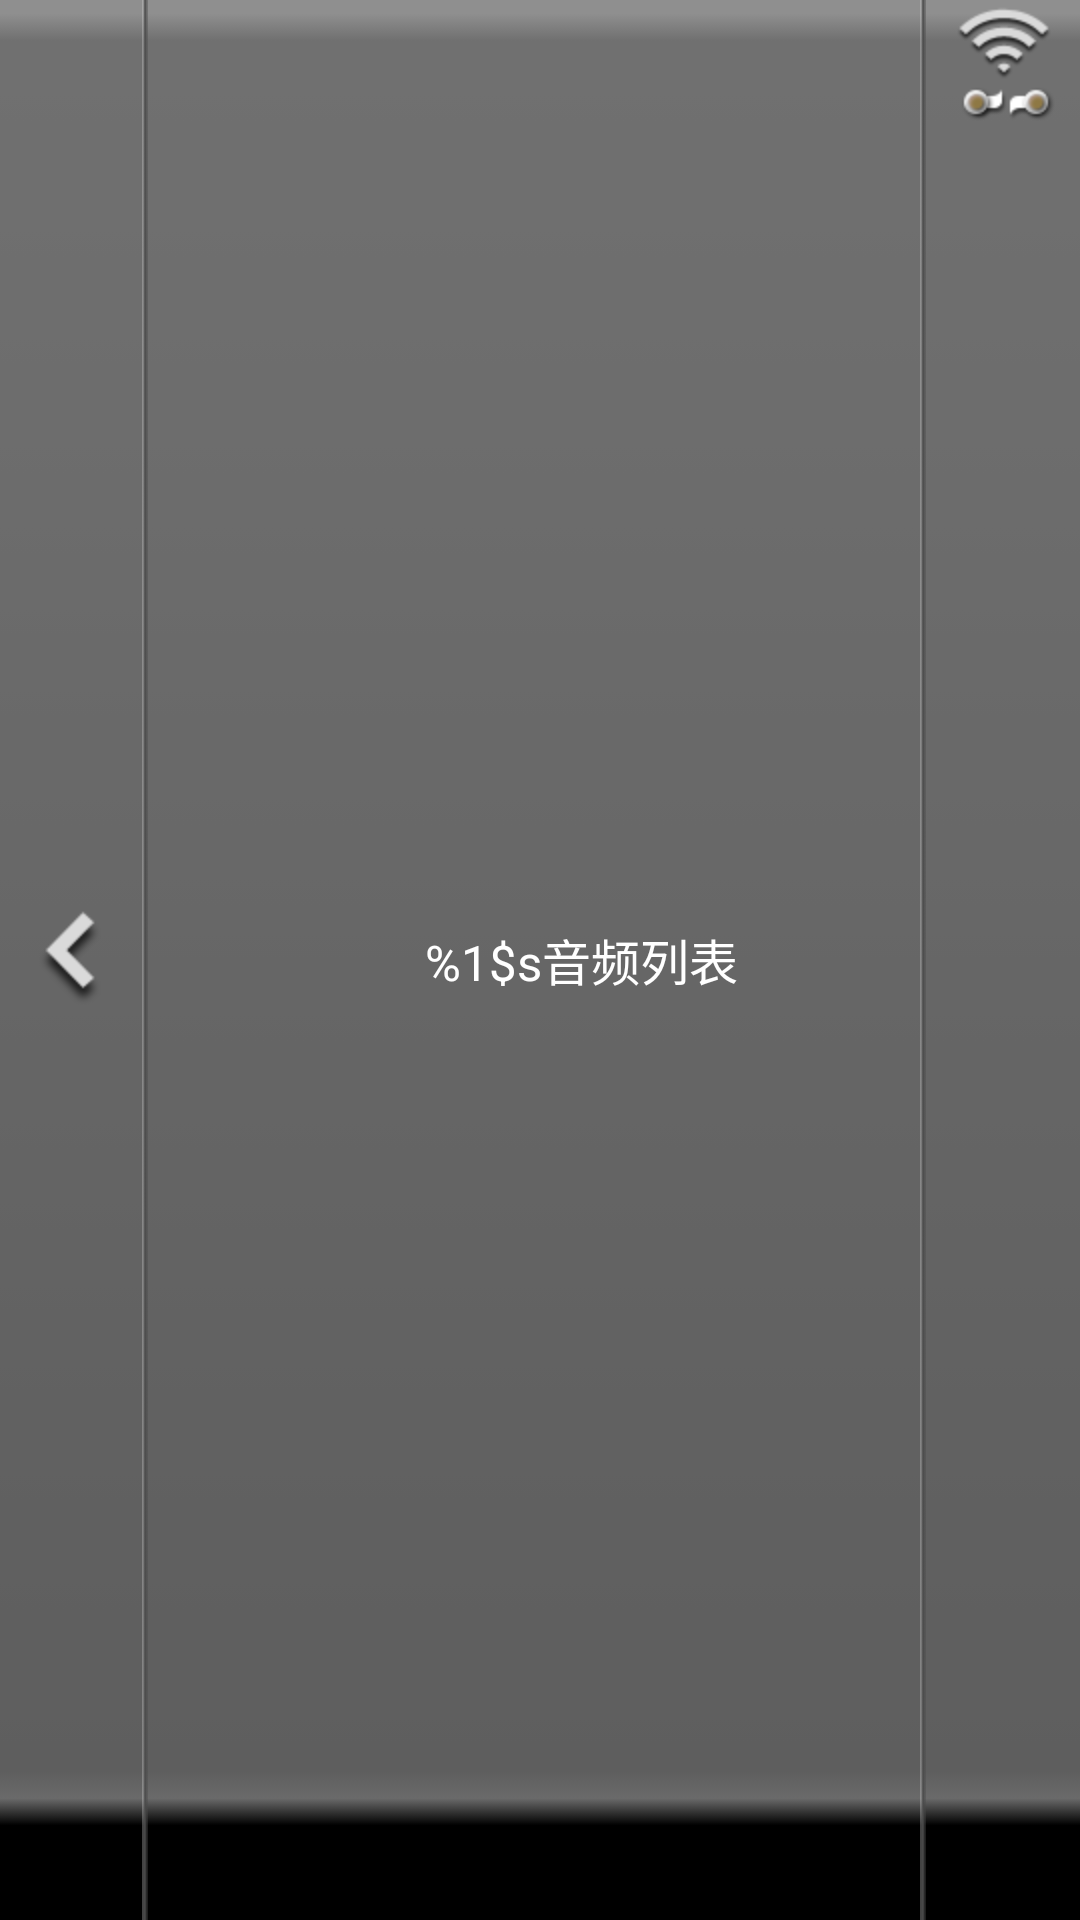

Icon click points for this 1080x1920 phone screenshot, format (x,y):
device unconnect: (1007,103)
wifi four: (1004,38)
